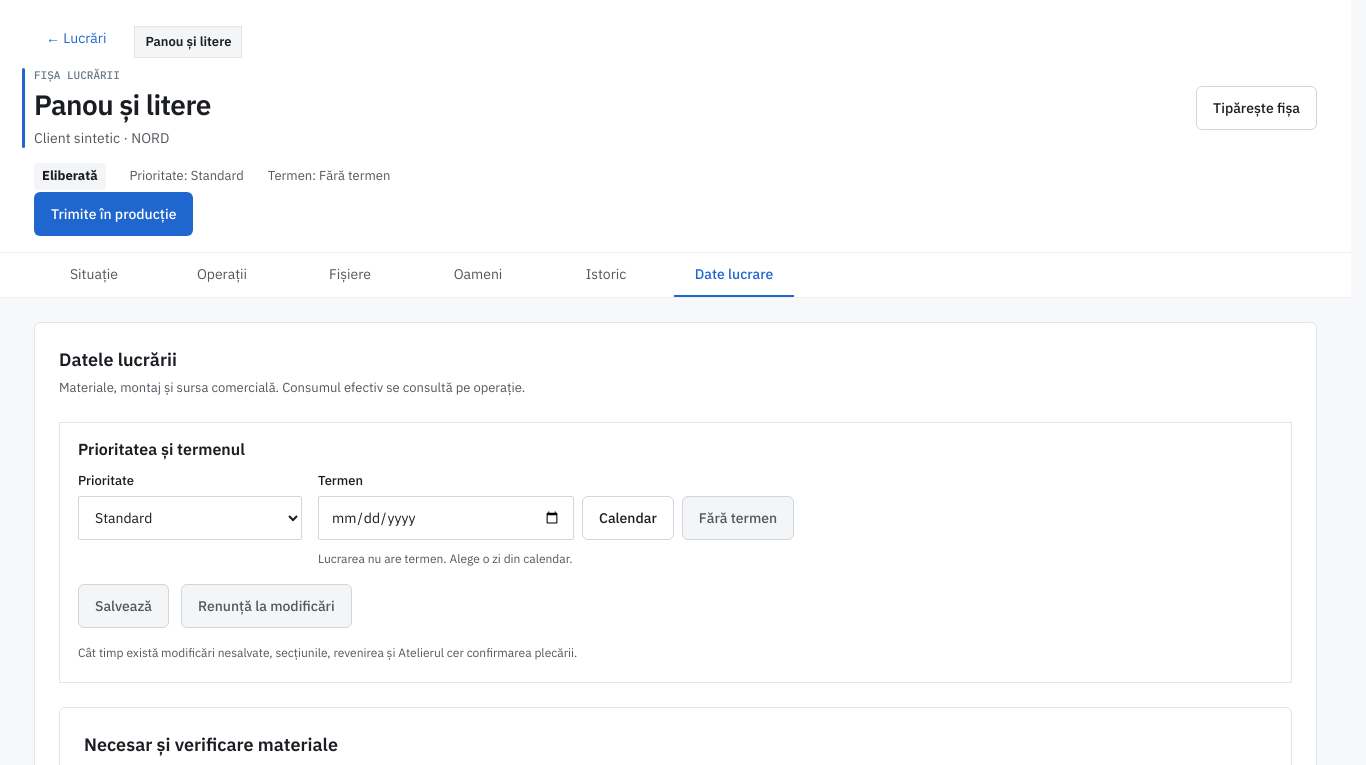
job planning · unsaved changes (N-018) › holds navigation; staying keeps the values
The image size is (1366, 765).
Check: the heading "Panou și litere" is shown, box [34,87,211,124]
Type "2026-11-30" into the date field labelled "Termen" at (446, 518), box [318,496,574,540]
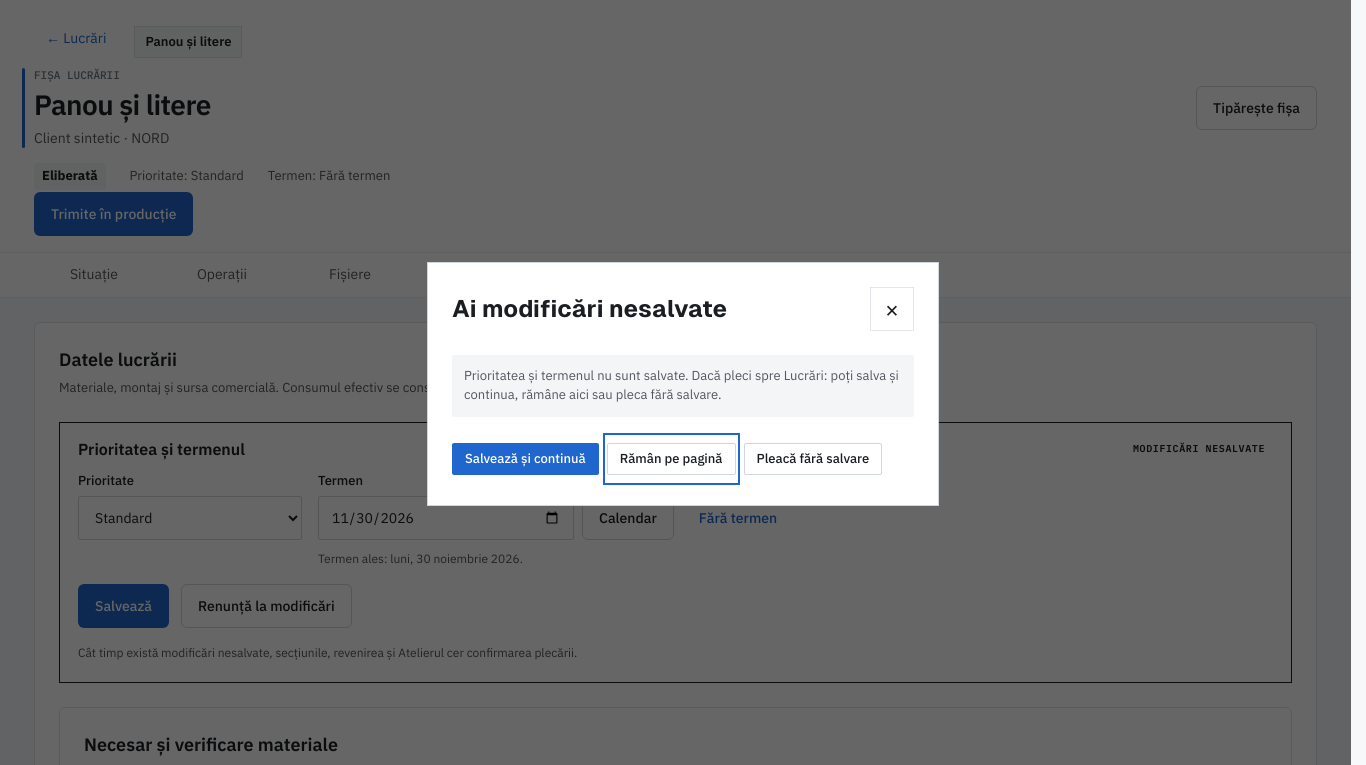
Check: the text "Modificări nesalvate" is shown, box [1125,439,1273,459]
Check: the heading "Ai modificări nesalvate" is shown, box [452,295,727,324]
Check: the text "Prioritatea și termenul nu sunt salvate. Dacă pleci spre Lucrări" is shown, box [464,367,899,403]
Click the button "Rămân pe pagină" at (671, 459), box [607,437,736,481]
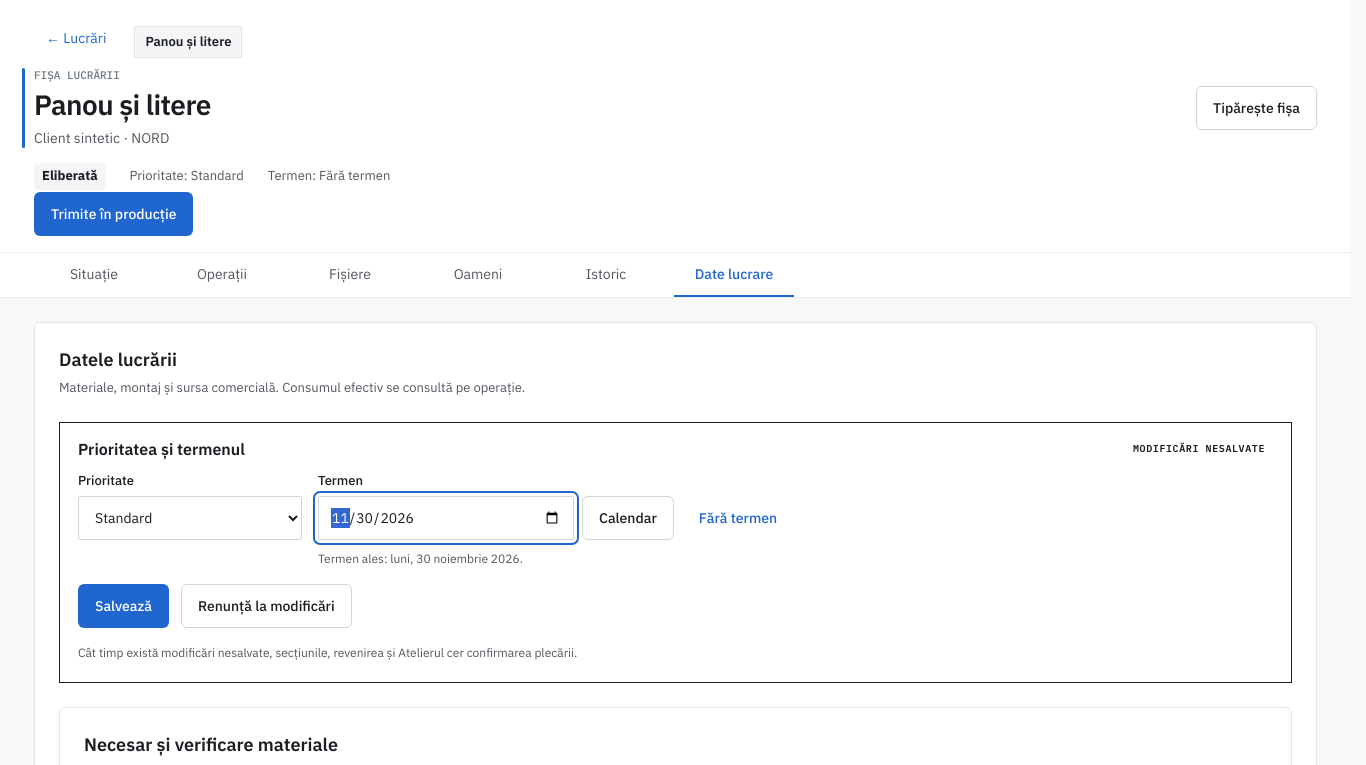
Check: the heading "Ai modificări nesalvate" is gone
